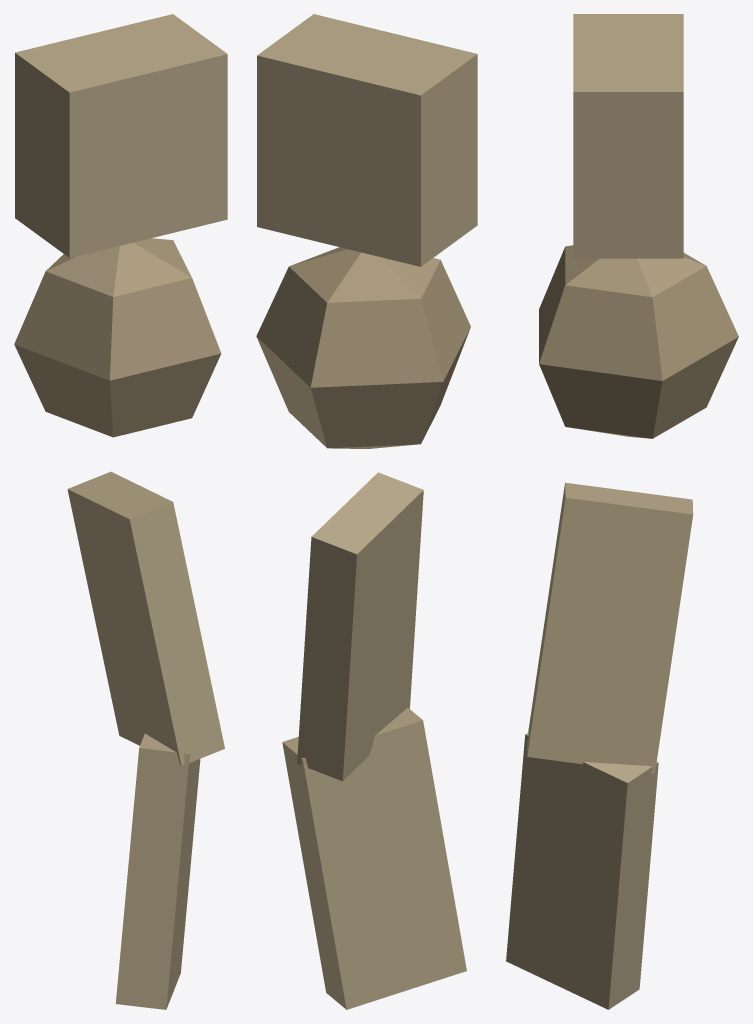
File: gear_norigae_t1_L.glb
The picture shows the model from 3 angles, left to right: view 1: azimuth 30°, elevation 25°; view 2: azimuth 150°, elevation 25°; view 3: azimuth 270°, elevation 25°; orthographic projection. The views are drawn at different scales.
Parts seen in each view (by area): view 1: gear_norigae_t1_L; view 2: gear_norigae_t1_L; view 3: gear_norigae_t1_L.
Boxes of the visible parts, box(x1,y1,x2,y2) form: gear_norigae_t1_L: box(14, 14, 227, 1009); gear_norigae_t1_L: box(256, 14, 477, 1009); gear_norigae_t1_L: box(506, 14, 738, 1009).
Size of the model in its own units: 0.0571 by 0.2794 by 0.0632.
